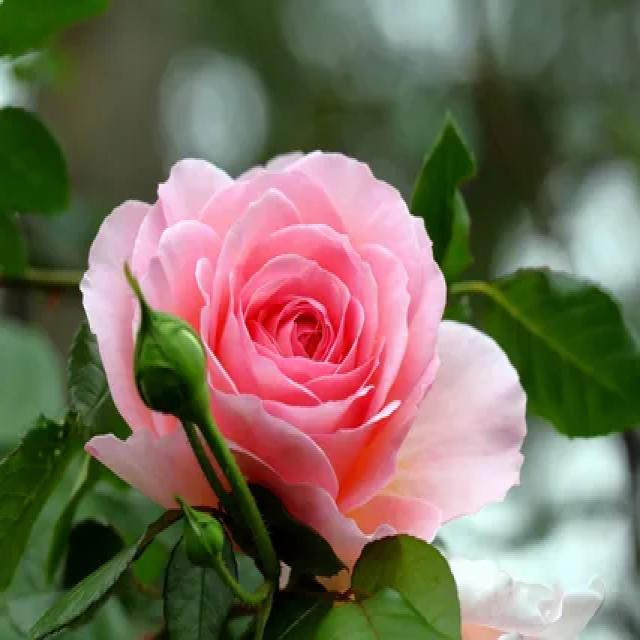rose: (77, 134, 534, 582)
